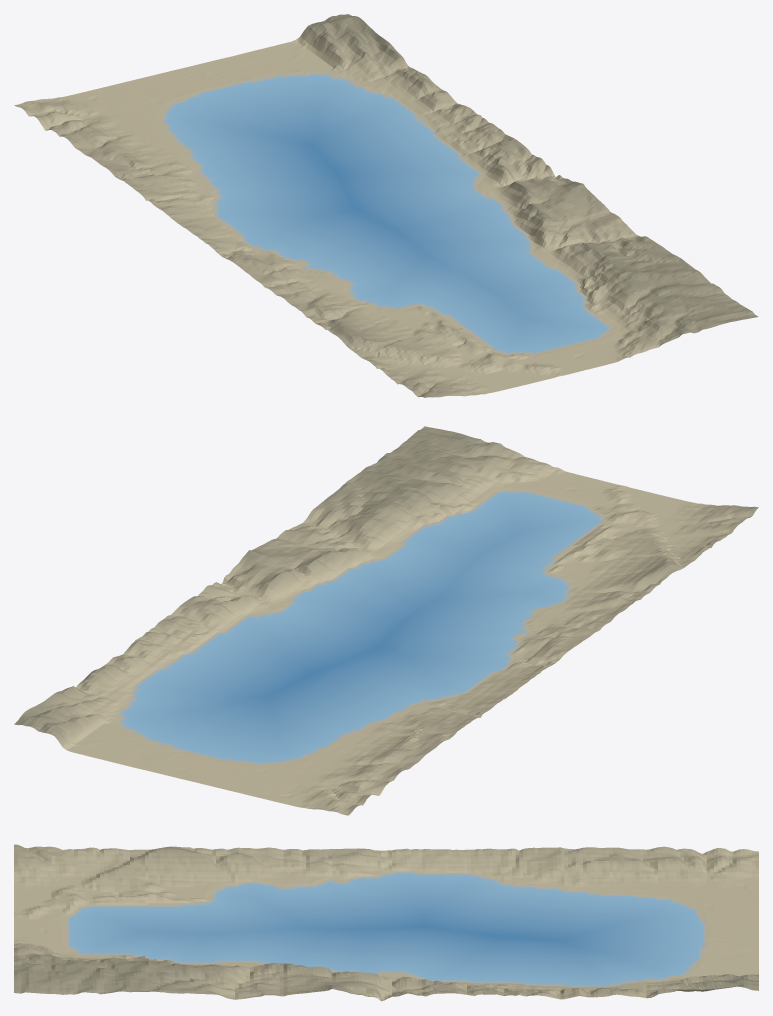
Rendered from bear_lake_ut.glb.
The picture shows the model from 3 angles, top to bottom: view 1: azimuth 30°, elevation 25°; view 2: azimuth 150°, elevation 25°; view 3: azimuth 270°, elevation 25°; orthographic projection. The views are drawn at different scales.
Parts seen in each view (by area): view 1: terrain, water; view 2: terrain, water; view 3: terrain, water.
Boxes of the visible parts, x1,y1,x2,y2 form: terrain: [14, 14, 758, 397]; water: [165, 74, 608, 352]; terrain: [14, 426, 758, 815]; water: [122, 492, 600, 763]; terrain: [14, 844, 758, 1001]; water: [70, 873, 702, 985].
Size of the model in its own units: 16654 by 967 by 35400.
